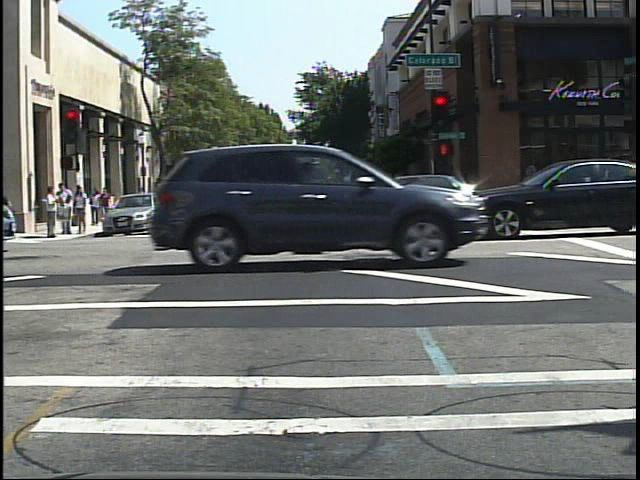person: (163, 181, 180, 218), (136, 182, 154, 214), (89, 187, 103, 228)
